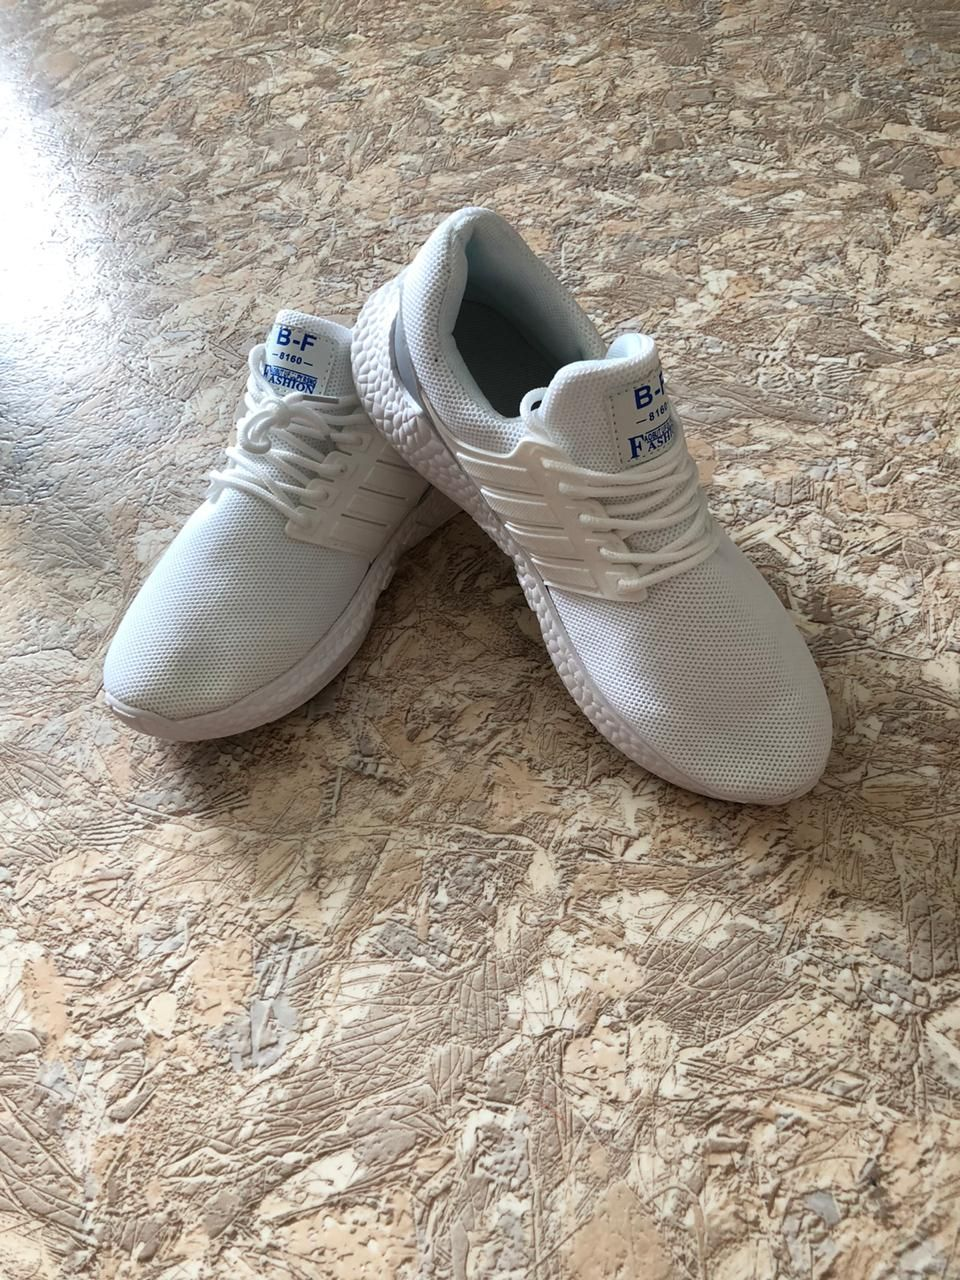clothes: (115, 209, 823, 801)
